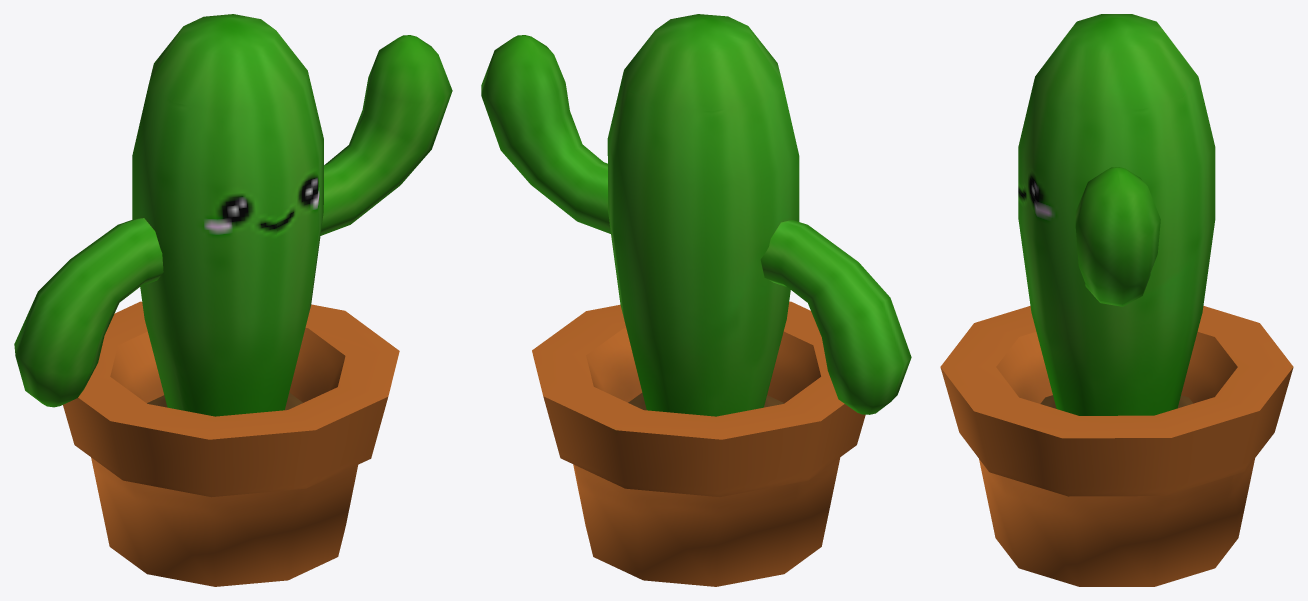
Rendered from cactus_Dana Grajeda.fbx.
3 views of the same model, side by side, from view 1: azimuth 30°, elevation 25°; view 2: azimuth 150°, elevation 25°; view 3: azimuth 270°, elevation 25° (orthographic).
Parts seen in each view (by area): view 1: Cactus; view 2: Cactus; view 3: Cactus.
Part boxes in pixels (bbox=[...]): Cactus: bbox=[14, 14, 452, 586]; Cactus: bbox=[481, 14, 911, 586]; Cactus: bbox=[940, 14, 1293, 586].
Bounding box in the file's own units: 343 × 399 × 246.
1 material, 1 textured.
